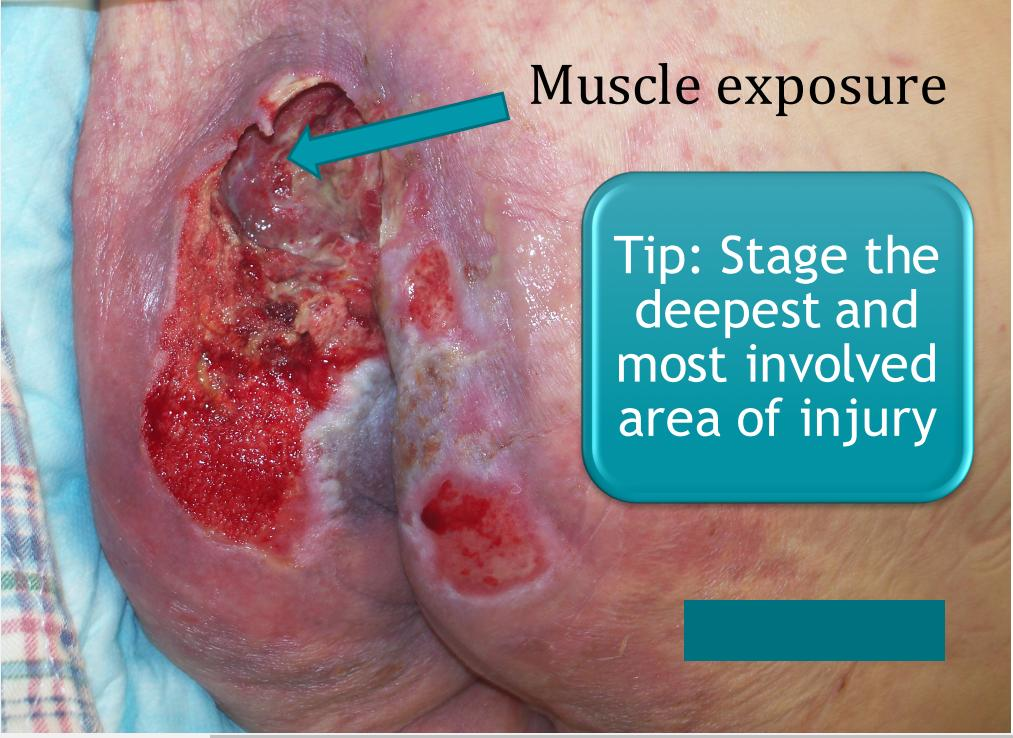Stage4: (108, 49, 592, 645)
